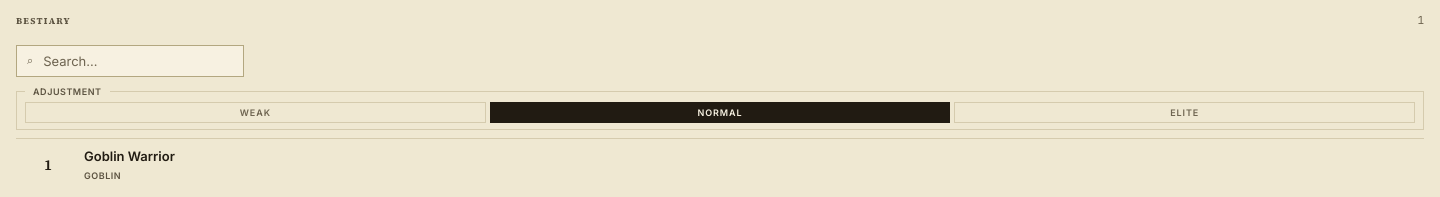
BestiarySection › renders the empty-state message when the search filters everything out
This screenshot has width=1440, height=197.
In the search field named "Search bestiary": (137, 61) left=41, top=52, right=233, bottom=70, type "dragon"
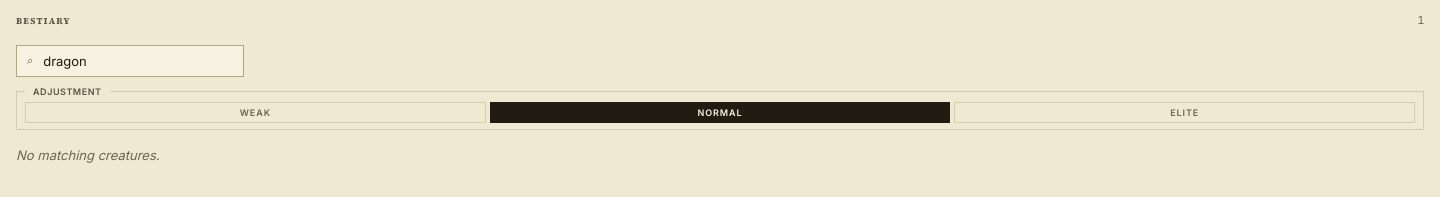
Expected: the text "No matching creatures." is shown, left=16, top=147, right=160, bottom=163
